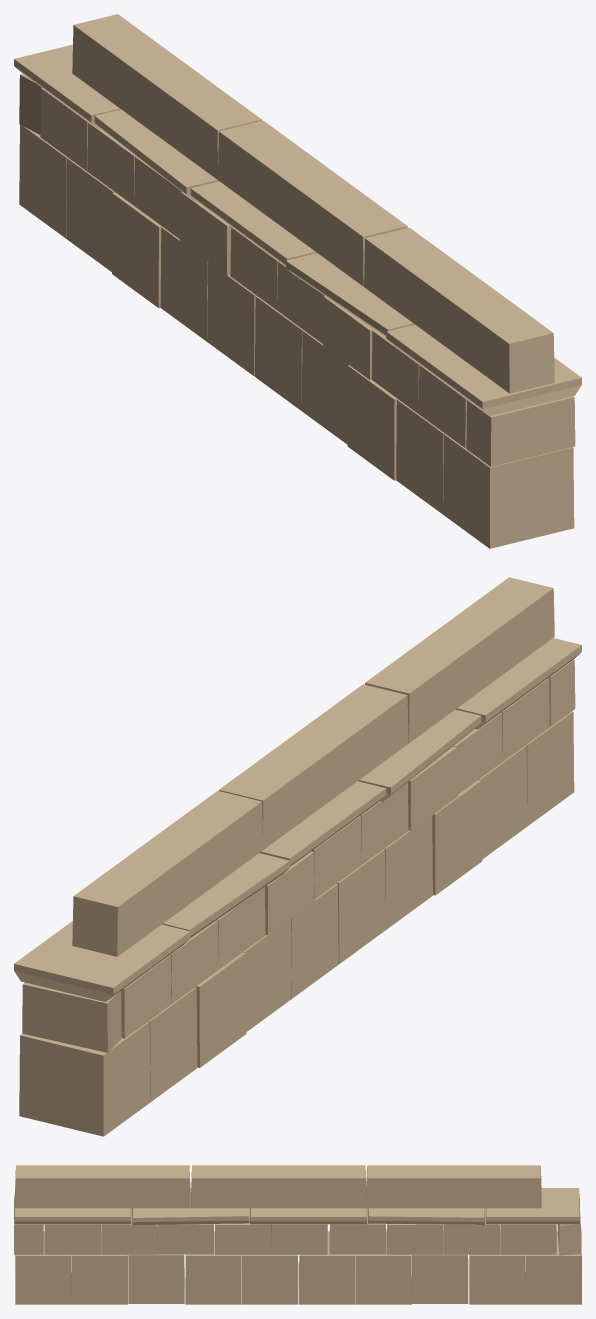
The model's file is egypt_wallleft.fbx.
3 views of the same model, one above another, from view 1: azimuth 30°, elevation 25°; view 2: azimuth 150°, elevation 25°; view 3: azimuth 270°, elevation 25° (orthographic). The views are drawn at different scales.
Visible parts, largest first — view 1: wallleft; view 2: wallleft; view 3: wallleft.
Boxes of the visible parts, x1,y1,x2,y2 form: wallleft: [14, 14, 581, 548]; wallleft: [14, 577, 581, 1136]; wallleft: [14, 1165, 581, 1304].
Size of the model in its own units: 2.22 by 4.02 by 17.2.
